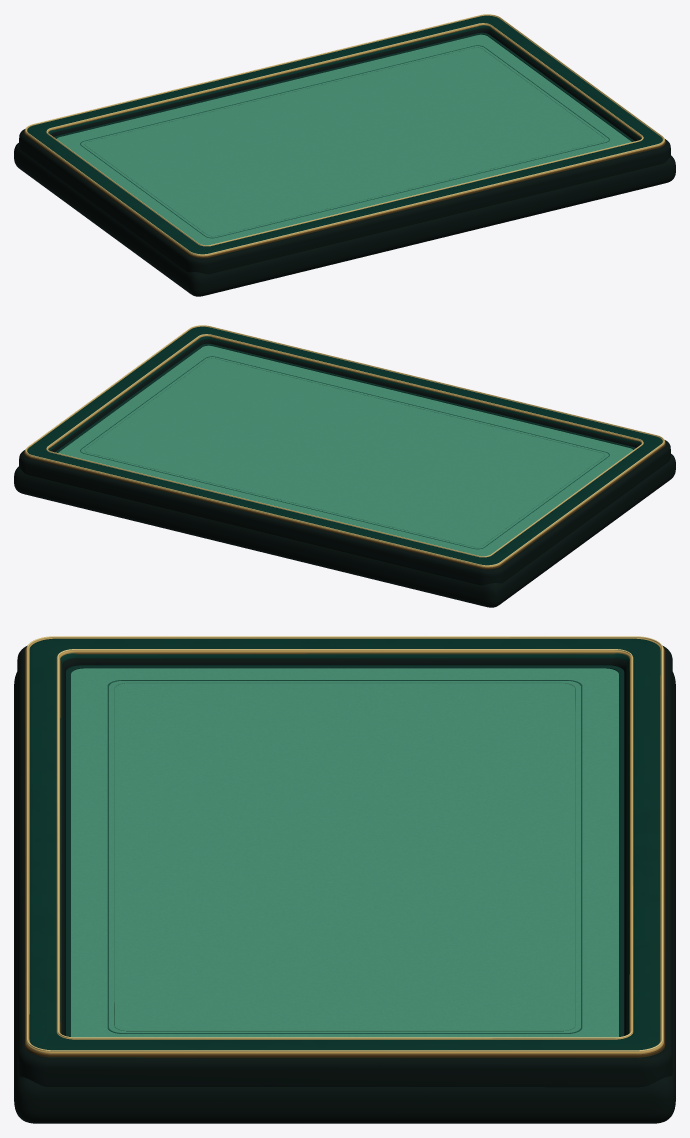
The model's file is neijiang_table_v2.glb.
3 views of the same model, one above another, from view 1: azimuth 30°, elevation 25°; view 2: azimuth 150°, elevation 25°; view 3: azimuth 270°, elevation 25° (orthographic). The views are drawn at different scales.
Visible parts, largest first — view 1: TableFelt, DarkFurnitureApron, TableEbonizedBase, TailoredDarkEmeraldRail, OuterChampagneGoldPiping, InnerChampagneGoldPiping, OuterChampagneGoldGlint, InnerChampagneGoldGlint, FeltInnerContactShadow, OuterChampagneGoldRecess, PlayfieldInsetOuter, PlayfieldInsetInner (+1 smaller); view 2: TableFelt, DarkFurnitureApron, TableEbonizedBase, TailoredDarkEmeraldRail, OuterChampagneGoldPiping, InnerChampagneGoldPiping, OuterChampagneGoldGlint, InnerChampagneGoldGlint, FeltInnerContactShadow, OuterChampagneGoldRecess, PlayfieldInsetOuter, PlayfieldInsetInner (+1 smaller); view 3: TableFelt, TailoredDarkEmeraldRail, DarkFurnitureApron, TableEbonizedBase, FeltInnerContactShadow, InnerChampagneGoldPiping, OuterChampagneGoldPiping, OuterChampagneGoldGlint, OuterChampagneGoldRecess, InnerChampagneGoldGlint, PlayfieldInsetInner, PlayfieldInsetOuter (+1 smaller).
Part boxes in pixels (left/top/right/bottom): TableFelt: left=57, top=34, right=631, bottom=245; DarkFurnitureApron: left=19, top=28, right=670, bottom=274; TableEbonizedBase: left=14, top=143, right=675, bottom=296; TailoredDarkEmeraldRail: left=27, top=15, right=664, bottom=258; OuterChampagneGoldPiping: left=25, top=15, right=664, bottom=256; InnerChampagneGoldPiping: left=46, top=24, right=643, bottom=246; OuterChampagneGoldGlint: left=25, top=14, right=664, bottom=254; InnerChampagneGoldGlint: left=46, top=23, right=643, bottom=245; FeltInnerContactShadow: left=54, top=32, right=634, bottom=141; OuterChampagneGoldRecess: left=24, top=130, right=665, bottom=258; PlayfieldInsetOuter: left=80, top=45, right=609, bottom=238; PlayfieldInsetInner: left=84, top=47, right=605, bottom=236; TableFelt: left=58, top=345, right=633, bottom=556; DarkFurnitureApron: left=19, top=339, right=670, bottom=585; TableEbonizedBase: left=14, top=454, right=675, bottom=607; TailoredDarkEmeraldRail: left=25, top=326, right=662, bottom=569; OuterChampagneGoldPiping: left=25, top=326, right=664, bottom=567; InnerChampagneGoldPiping: left=46, top=335, right=643, bottom=557; OuterChampagneGoldGlint: left=25, top=325, right=664, bottom=565; InnerChampagneGoldGlint: left=46, top=334, right=643, bottom=556; FeltInnerContactShadow: left=55, top=343, right=635, bottom=452; OuterChampagneGoldRecess: left=24, top=441, right=665, bottom=569; PlayfieldInsetOuter: left=80, top=356, right=609, bottom=549; PlayfieldInsetInner: left=84, top=358, right=605, bottom=547; TableFelt: left=71, top=668, right=618, bottom=1037; TailoredDarkEmeraldRail: left=25, top=638, right=664, bottom=1057; DarkFurnitureApron: left=17, top=645, right=672, bottom=1087; TableEbonizedBase: left=14, top=672, right=675, bottom=1123; FeltInnerContactShadow: left=65, top=665, right=624, bottom=1036; InnerChampagneGoldPiping: left=56, top=650, right=633, bottom=1039; OuterChampagneGoldPiping: left=26, top=637, right=663, bottom=1054; OuterChampagneGoldGlint: left=27, top=636, right=662, bottom=1051; OuterChampagneGoldRecess: left=24, top=647, right=665, bottom=1057; InnerChampagneGoldGlint: left=57, top=649, right=632, bottom=1038; PlayfieldInsetInner: left=114, top=682, right=575, bottom=1031; PlayfieldInsetOuter: left=107, top=680, right=582, bottom=1033.
Bounding box in the file's own units: 15.18 × 1.24 × 9.98.
Materials: 9 (3 with a texture image).
